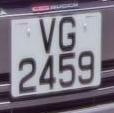2: (15, 52, 40, 98)
4: (37, 54, 59, 92)
5: (56, 51, 78, 90)
9: (76, 47, 97, 87)
G: (57, 14, 79, 55)
V: (36, 15, 59, 58)
